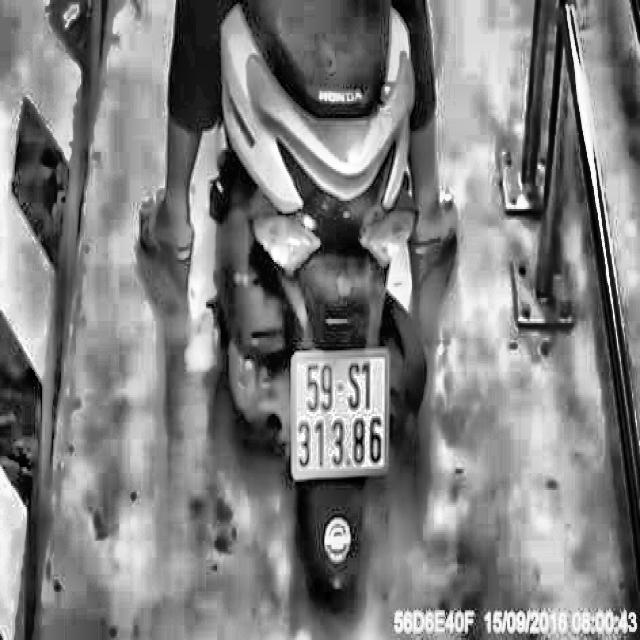plate: (286, 338, 394, 486)
